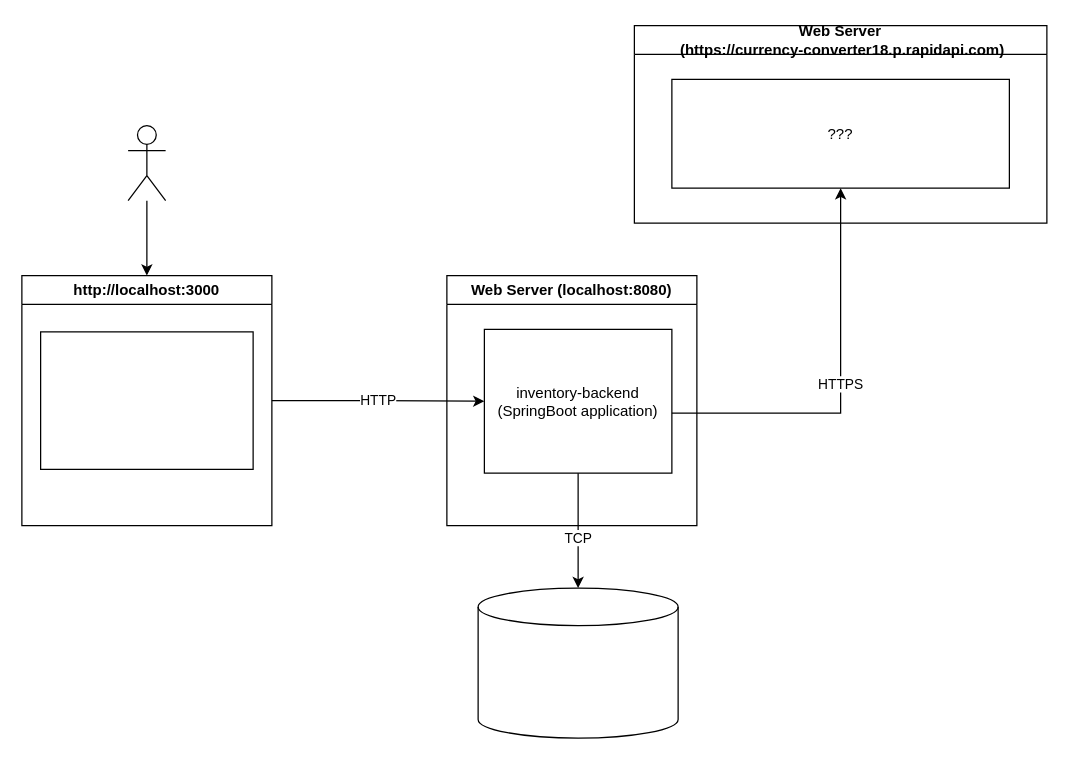
This 1069x760 diagram has some shape labels left out. The shapes that lost their labels are listed below. From the top down, each one's centre as x and y in pixels, then its label:
At pixel 146 162: "User".
At pixel 146 400: "Web Page (HTML + CSS + JS) (inventory-frontend)".
At pixel 577 662: "Inventory Database Postgres localhost:5432".
